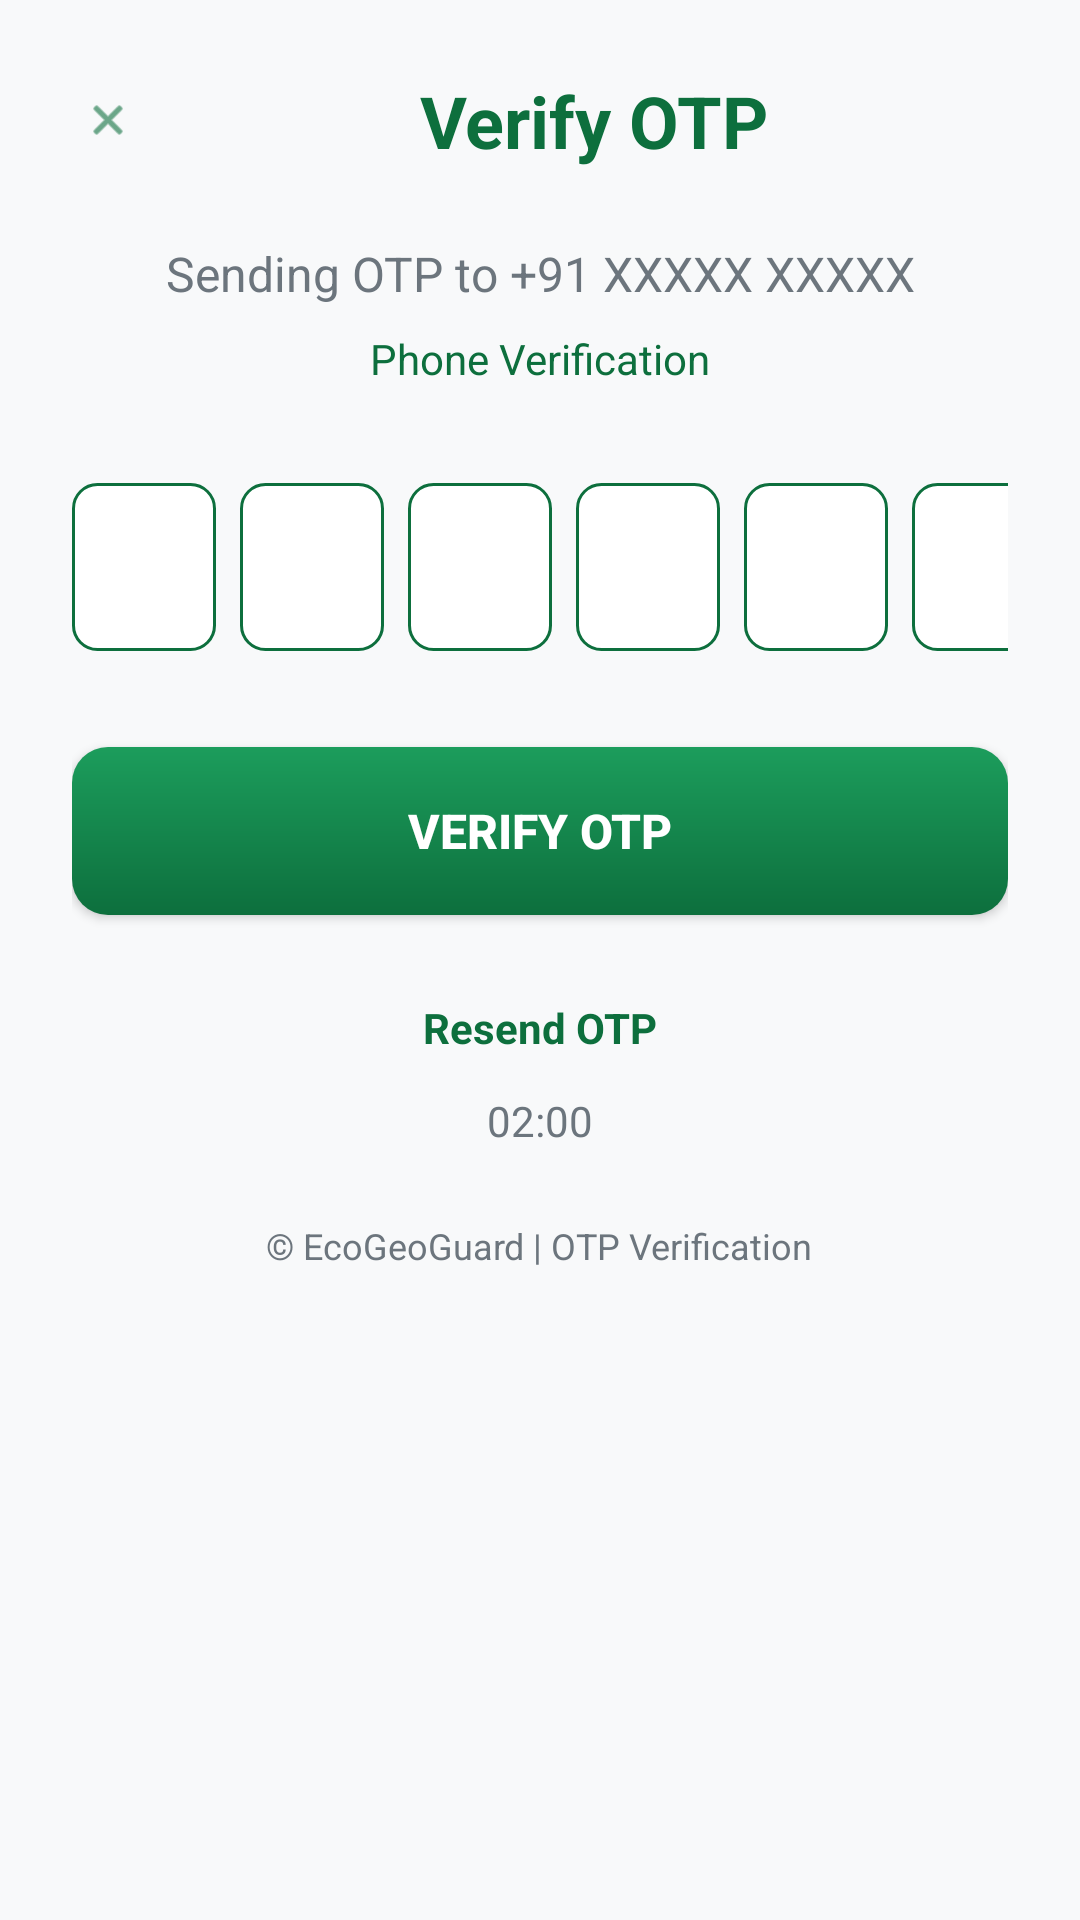

Icons on this 1080px×1920px Android screen, each with its box as (x1, y1, x2, y2):
close clear cancel: (93, 105, 123, 135)
